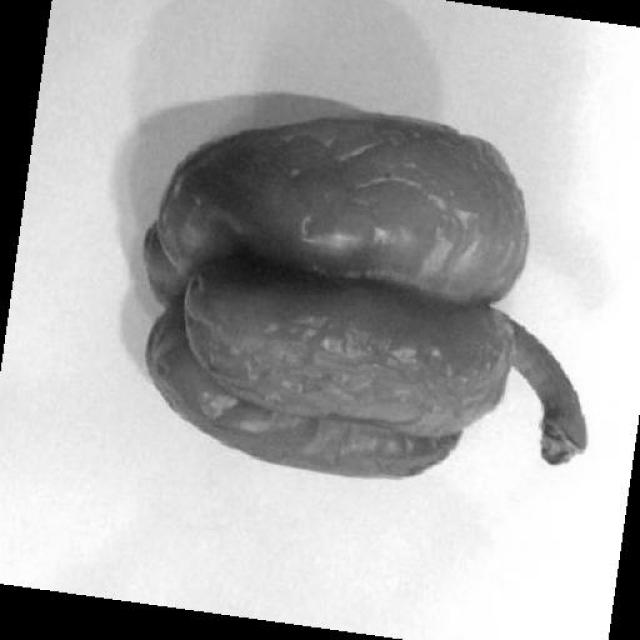Stale_Capsicum: (146, 97, 520, 493)
